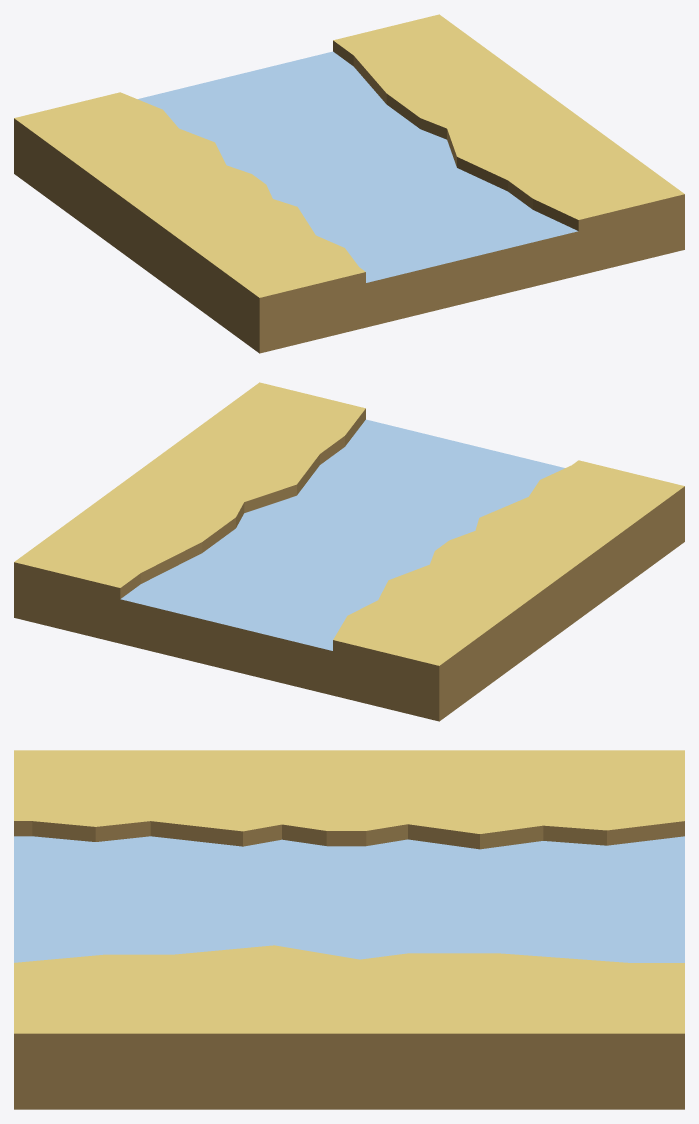
Rendered from Terrain_Tile_Sand_River_03.fbx.
3 renders of one model, top to bottom at view 1: azimuth 30°, elevation 25°; view 2: azimuth 150°, elevation 25°; view 3: azimuth 270°, elevation 25°, orthographic. The views are drawn at different scales.
Parts seen in each view (by area): view 1: Terrain_Tile_Sand_River_03; view 2: Terrain_Tile_Sand_River_03; view 3: Terrain_Tile_Sand_River_03.
Part boxes in pixels (x1,y1,x2,y2): Terrain_Tile_Sand_River_03: (14,14,684,353); Terrain_Tile_Sand_River_03: (14,382,684,721); Terrain_Tile_Sand_River_03: (14,750,684,1109).
Size of the model in its own units: 126 by 15.75 by 126.
